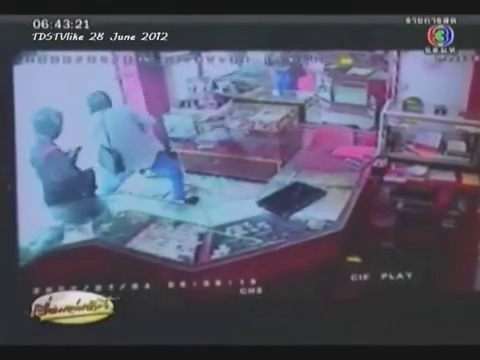helmet: (30, 104, 61, 140), (80, 93, 114, 110)
